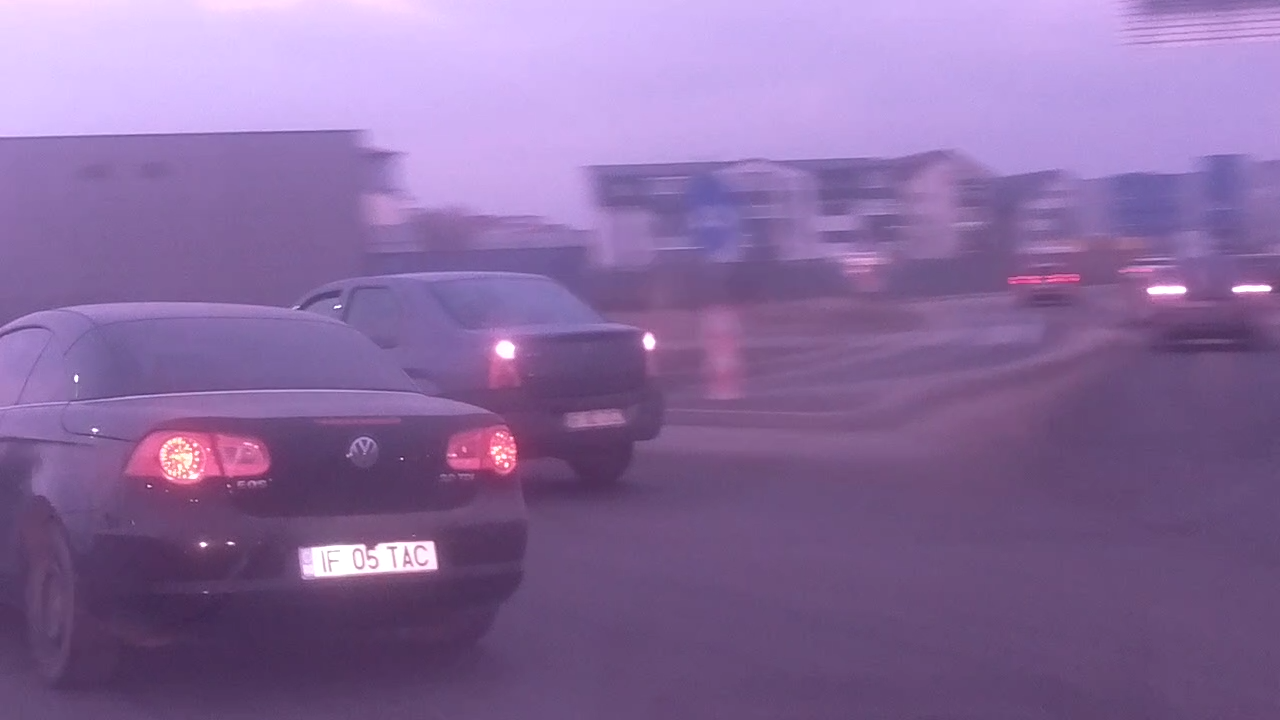license-plate: (294, 536, 444, 583)
